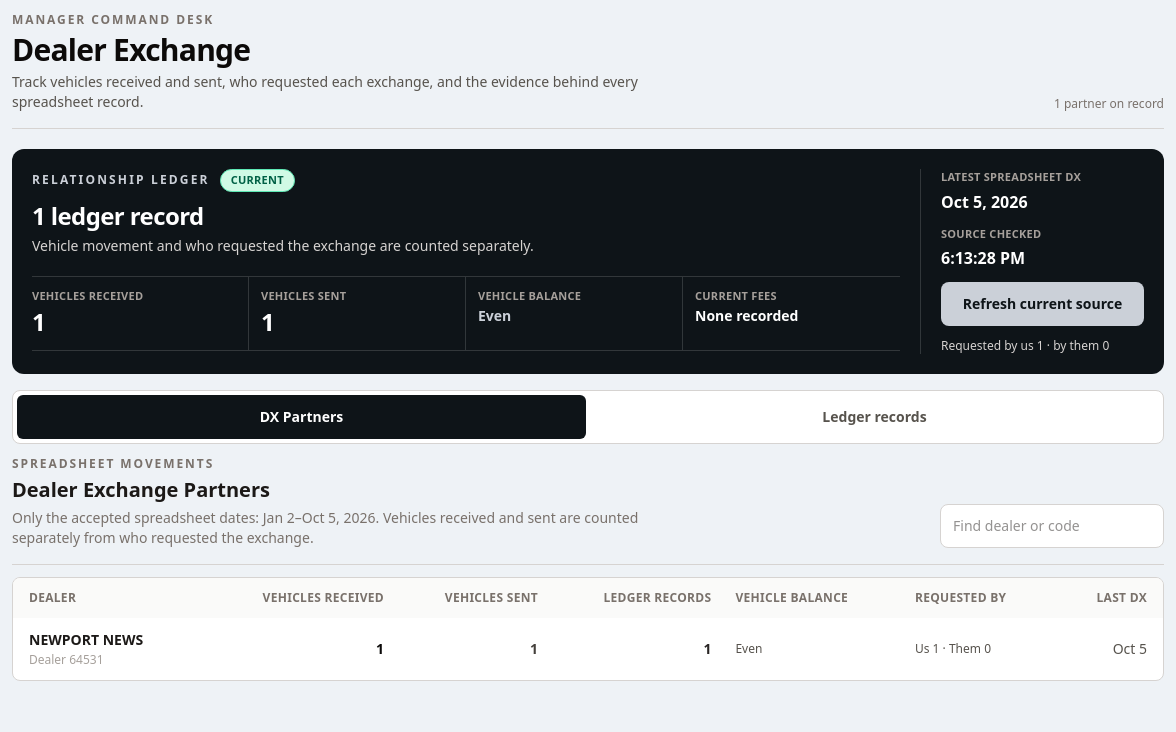
Scenario: Dealer Exchange file-only display › uses file-only metrics and history even when given older seed rows
Click the tab "Ledger records" at (874, 417), box [590,395,1159,439]
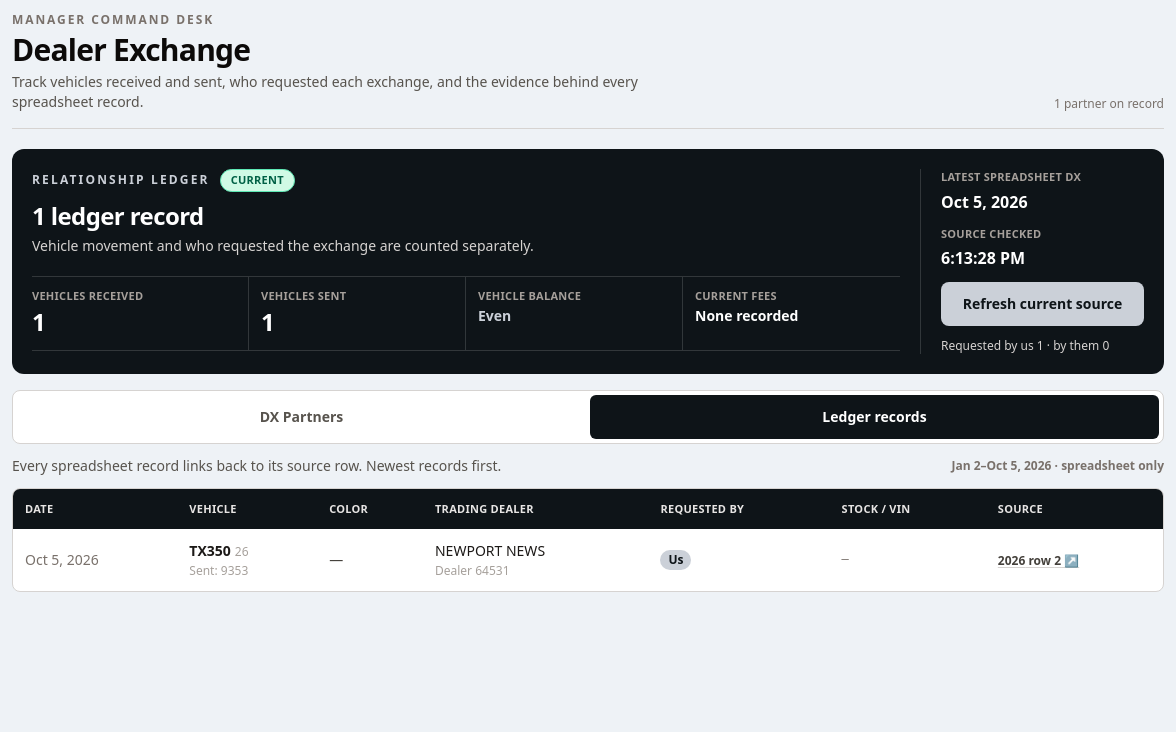
Expected: the text "Jan 2–Oct 5, 2026 · spreadsheet only" is shown, [952,458,1164,474]
Expected: the link "2026 row 2 ↗" is shown, [998,552,1079,569]
